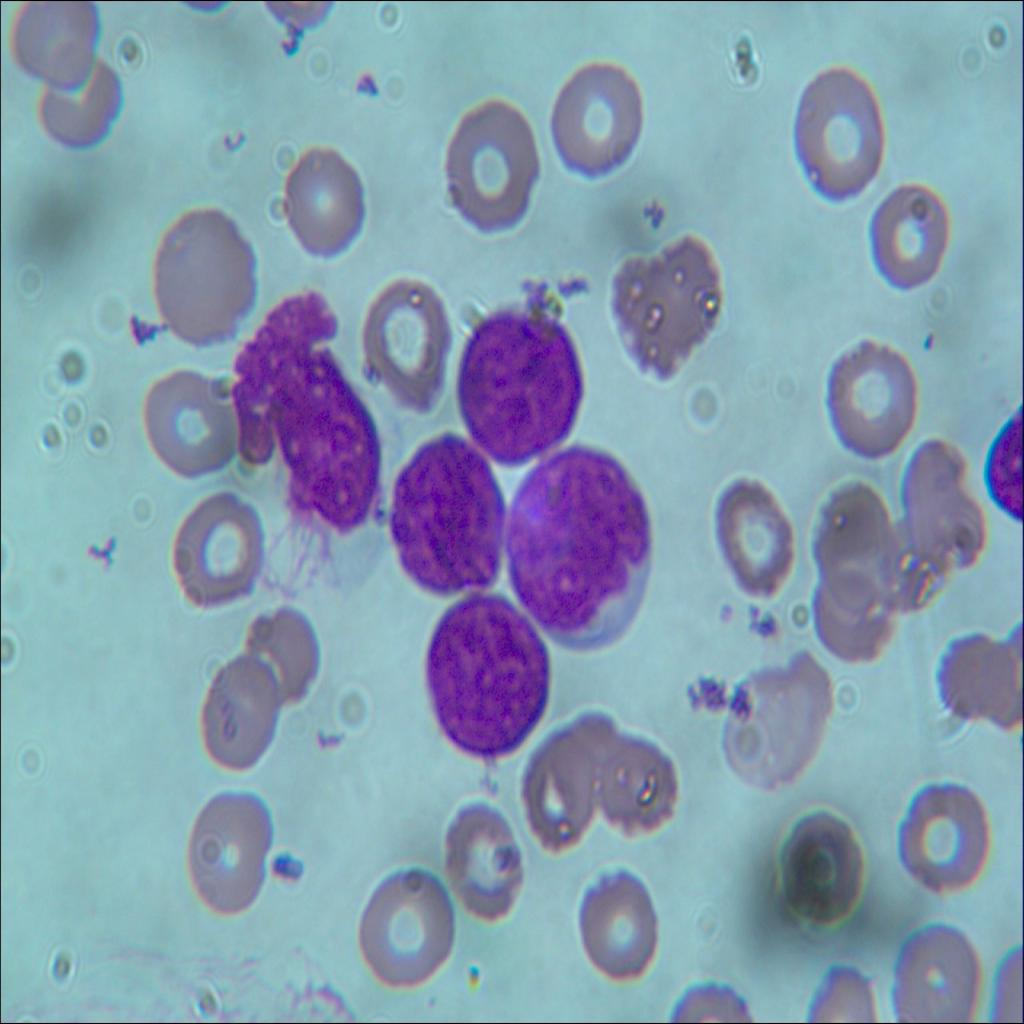Eritrosit: (142, 202, 266, 352), (608, 228, 722, 390), (432, 95, 542, 242), (816, 328, 921, 477), (354, 266, 458, 415), (789, 55, 888, 204), (178, 775, 274, 927), (135, 358, 244, 488), (716, 662, 826, 790), (162, 479, 266, 612), (349, 861, 459, 983), (441, 785, 530, 928), (775, 805, 866, 944), (901, 444, 995, 577), (861, 175, 956, 305), (702, 467, 798, 594), (546, 59, 652, 174), (575, 864, 666, 988), (522, 710, 606, 844), (926, 622, 1024, 735), (811, 481, 893, 616), (901, 771, 988, 898), (282, 145, 368, 265), (236, 589, 322, 708), (36, 50, 133, 154), (884, 917, 978, 1023), (199, 654, 281, 774), (583, 727, 673, 832), (813, 559, 898, 660), (9, 0, 99, 92), (876, 504, 935, 607)
Limfoblast: (506, 448, 656, 655), (418, 589, 556, 751), (446, 307, 586, 465), (382, 431, 506, 604)
Platelet: (706, 585, 741, 624), (913, 321, 943, 361)
